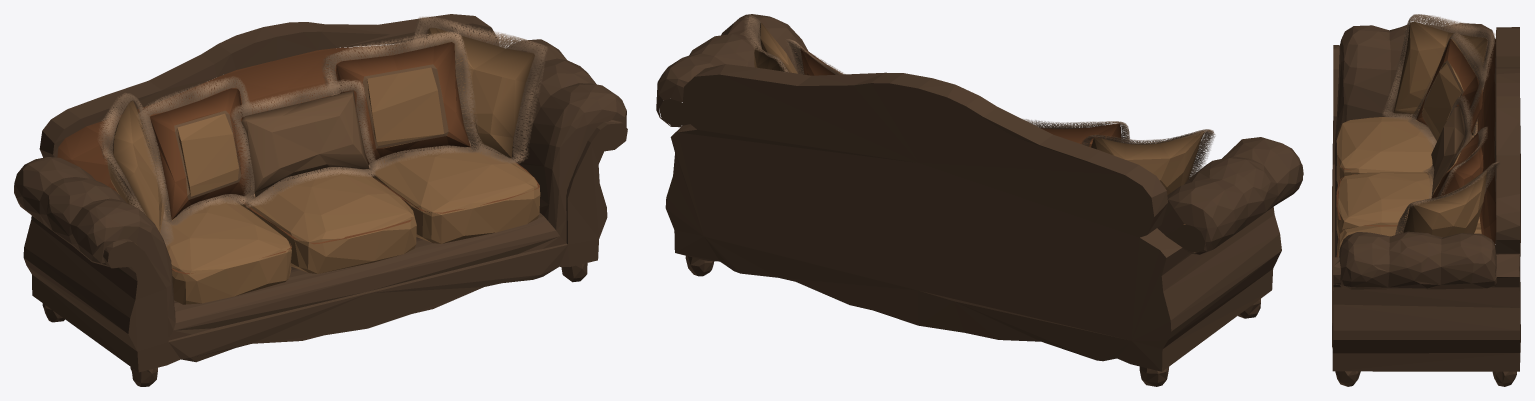
File: SheenWoodLeatherSofa.glb
3 views of the same model, side by side, from view 1: azimuth 30°, elevation 25°; view 2: azimuth 150°, elevation 25°; view 3: azimuth 270°, elevation 25° (orthographic). The views are drawn at different scales.
Parts seen in each view (by area): view 1: Frame, Paisley, Fringe, Brown, Stripes, Frame_Fabric; view 2: Frame, Paisley, Fringe, Brown; view 3: Frame, Paisley, Fringe, Brown, Frame_Fabric, Stripes.
Boxes of the visible parts, <box> form: Frame: <box>14,14,627,386</box>; Paisley: <box>107,28,540,304</box>; Fringe: <box>98,16,547,246</box>; Brown: <box>150,42,539,274</box>; Stripes: <box>174,64,448,199</box>; Frame_Fabric: <box>57,34,493,192</box>; Frame: <box>656,14,1303,386</box>; Paisley: <box>754,22,1204,224</box>; Fringe: <box>744,14,1215,178</box>; Brown: <box>800,46,1121,147</box>; Frame: <box>1332,23,1520,386</box>; Paisley: <box>1336,21,1487,257</box>; Fringe: <box>1382,14,1499,234</box>; Brown: <box>1336,39,1483,257</box>; Frame_Fabric: <box>1477,38,1496,245</box>; Stripes: <box>1422,60,1472,196</box>.
Size of the model in its own units: 2.73 by 1.12 by 0.9225.
Materials: 5 (1 with a texture image).
